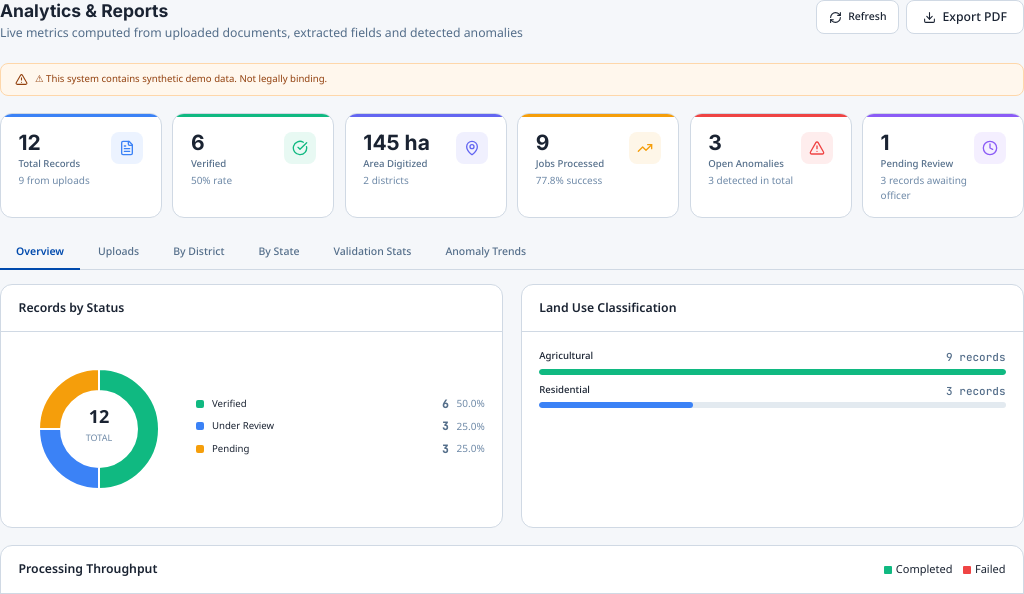
Test: ReportsPage with live analytics › derives the anomaly resolution rate from open and total counts
This screenshot has width=1024, height=594.
Click the button "Anomaly Trends": (486, 253) [429,236,542,270]
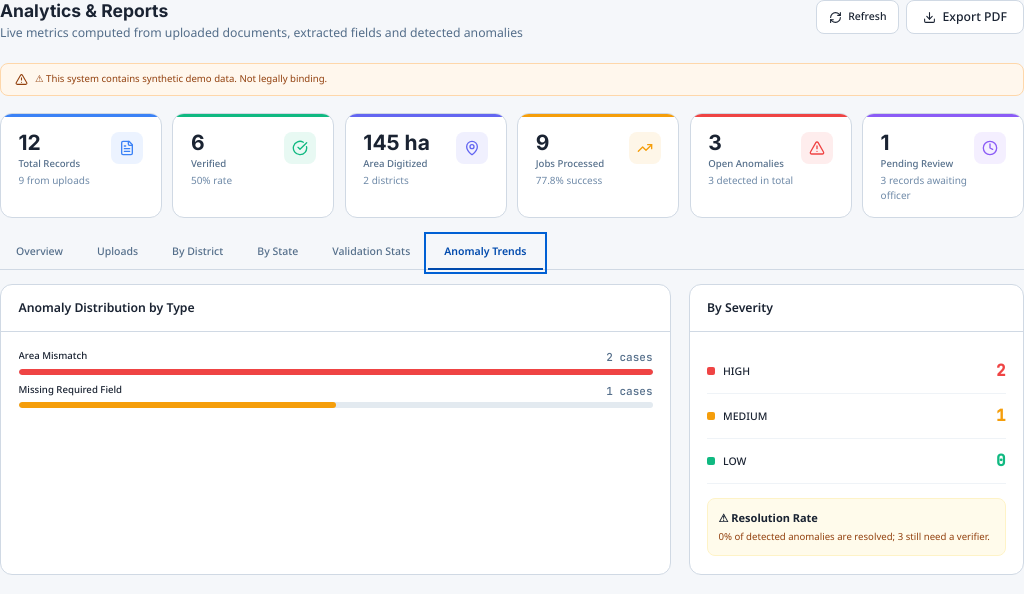
Expected: the text "Anomaly Distribution by Type" is shown, [18,298,195,317]
Expected: the text "Area Mismatch" is shown, [18,349,87,366]
Expected: the text "0% of detected anomalies are resolved" is shown, [718,530,990,543]
